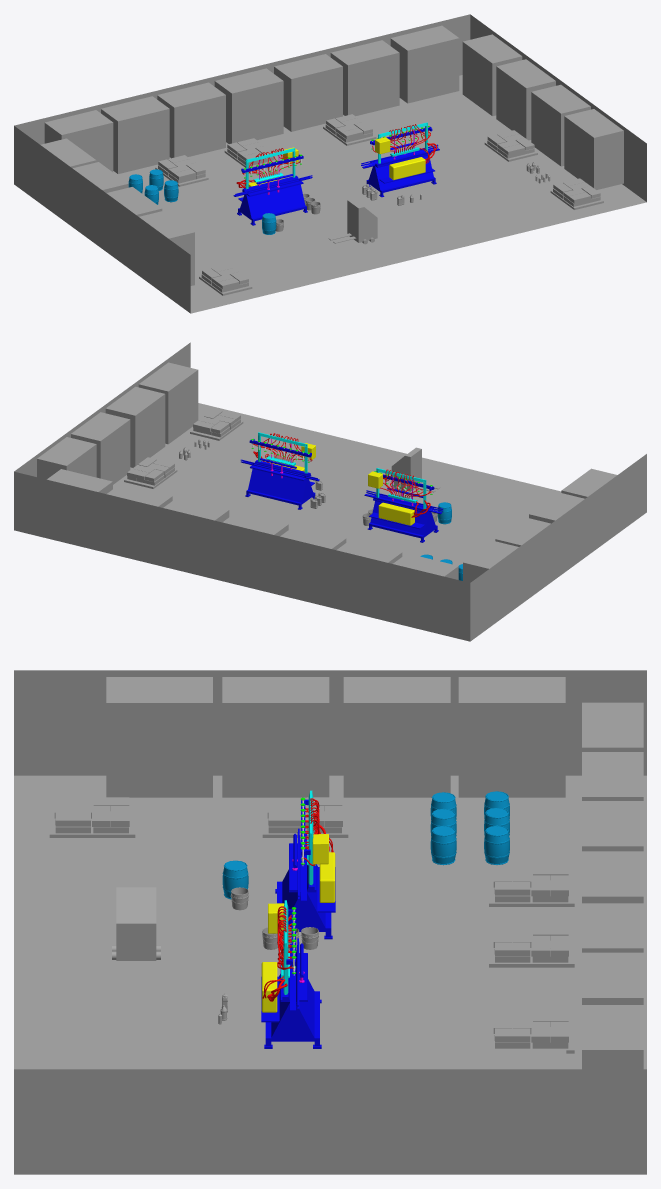
Rendered from blockoutTry1.fbx.
3 views of the same model, one above another, from view 1: azimuth 30°, elevation 25°; view 2: azimuth 150°, elevation 25°; view 3: azimuth 270°, elevation 25° (orthographic). The views are drawn at different scales.
Visible parts, largest first — view 1: walls_tri, shelf11, shelf9, shelf13, shelf8, shelf10, shelf2, shelf1, bottleFiller_tri, bottleFiller_tri1, shelf14, shelf12 (+7 smaller); view 2: walls_tri, bottleFiller_tri1, bottleFiller_tri, shelf15, shelf13, shelf14, shelf12, shelf4, shelf6, shelf3, shelf7, shelf5 (+7 smaller); view 3: walls_tri, shelf6, shelf5, shelf4, shelf7, bottleFiller_tri1, bottleFiller_tri, shelf11, shelf8, shelf10, pCube1, shelf1 (+13 smaller).
Part boxes in pixels (x1,y1,x2,y2): walls_tri: (14,14,646,313); shelf11: (390,25,459,103); shelf9: (274,54,342,131); shelf13: (564,109,623,189); shelf8: (214,68,283,143); shelf10: (330,40,399,116); shelf2: (101,96,169,173); shelf1: (157,82,225,158); bottleFiller_tri: (233,147,312,225); bottleFiller_tri1: (361,122,439,197); shelf14: (496,59,555,140); shelf12: (462,34,522,116); walls_tri: (14,342,646,641); bottleFiller_tri1: (240,432,319,509); bottleFiller_tri: (364,468,443,542); shelf15: (105,386,165,467); shelf13: (138,362,198,444); shelf14: (71,412,130,484); shelf12: (37,437,96,479); shelf4: (463,541,518,582); shelf6: (529,492,584,523); shelf3: (393,553,458,579); shelf7: (561,468,617,498); shelf5: (495,517,550,546); walls_tri: (14,670,646,1174); shelf6: (222,677,329,797); shelf5: (343,677,450,797); shelf4: (458,677,565,797); shelf7: (106,677,212,797); bottleFiller_tri1: (261,900,321,1048); bottleFiller_tri: (275,790,335,939); shelf11: (582,1005,643,1069); shelf8: (582,851,643,903); shelf10: (582,952,643,1004); pCube1: (116,882,156,960); shelf1: (582,801,643,851).
Size of the model in its own units: 17.99 by 2.32 by 12.07.
